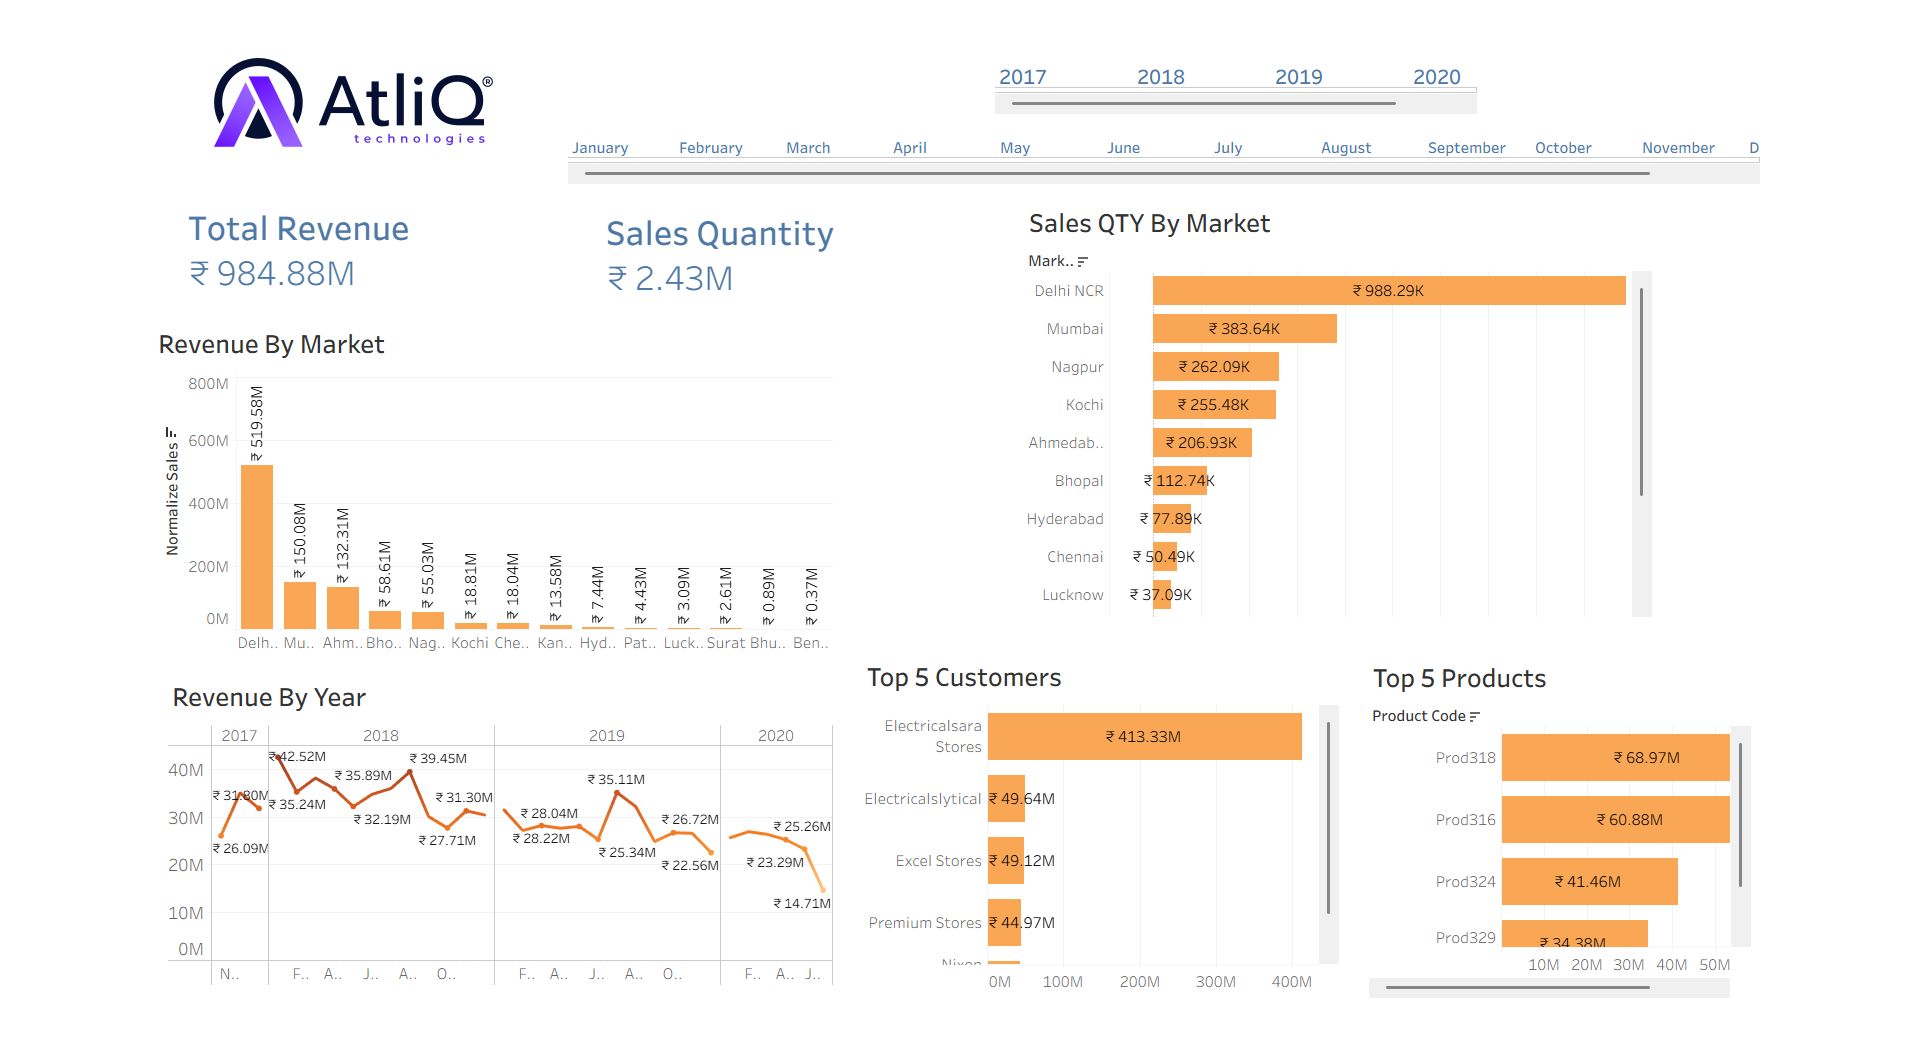

The page's visual inventory and layout, read from the dashboard file:
{"tool":"tableau","page":{"name":"Dashboard- Revenue","canvas":[1657,951],"ordinal":1},"visuals":[{"type":"worksheet","title":"Year","mark":"Automatic","cols":["date"],"box":[864,5,482,68]},{"type":"image","param":"C:/Users/Onkar/Downloads/atliqe.svg","box":[83,12,325,89]},{"type":"worksheet","title":"Month","mark":"Automatic","cols":["month_name"],"box":[437,76,1192,73]},{"type":"worksheet","title":"Total sales","mark":"Automatic","box":[53,143,299,127]},{"type":"worksheet","title":"Sales Qty","mark":"Automatic","box":[471,148,281,121]},{"type":"worksheet","title":"Sales QTY By Market","mark":"Automatic","rows":["markets_name"],"cols":["sales_qty"],"box":[894,155,627,416]},{"type":"worksheet","title":"Revenue By Market","mark":"Automatic","rows":["Calculation_176766332580548608"],"cols":["markets_name"],"box":[23,276,679,333]},{"type":"worksheet","title":"Top 5 Customers","mark":"Automatic","rows":["custmer_name"],"cols":["Calculation_176766332580548608"],"box":[732,609,476,339]},{"type":"worksheet","title":"Top 5 Products","mark":"Automatic","rows":["product_code"],"cols":["Calculation_176766332580548608"],"box":[1238,610,382,342]},{"type":"worksheet","title":"Revenue By Year","mark":"Automatic","rows":["Calculation_176766332580548608"],"cols":["cy_date","cy_date"],"box":[37,629,666,311]}]}

Visuals, with their boxes on the page's 1657x951 design canvas (x1, y1, x2, y2). These are canvas units, not pixel positions in the 1919x1040 screenshot, which may show the page scaled, cropped or inside an application window:
"Year" worksheet: x1=864, y1=5, x2=1346, y2=73
image: x1=83, y1=12, x2=408, y2=101
"Month" worksheet: x1=437, y1=76, x2=1629, y2=149
"Total sales" worksheet: x1=53, y1=143, x2=352, y2=270
"Sales Qty" worksheet: x1=471, y1=148, x2=752, y2=269
"Sales QTY By Market" worksheet: x1=894, y1=155, x2=1521, y2=571
"Revenue By Market" worksheet: x1=23, y1=276, x2=702, y2=609
"Top 5 Customers" worksheet: x1=732, y1=609, x2=1208, y2=948
"Top 5 Products" worksheet: x1=1238, y1=610, x2=1620, y2=952
"Revenue By Year" worksheet: x1=37, y1=629, x2=703, y2=940
